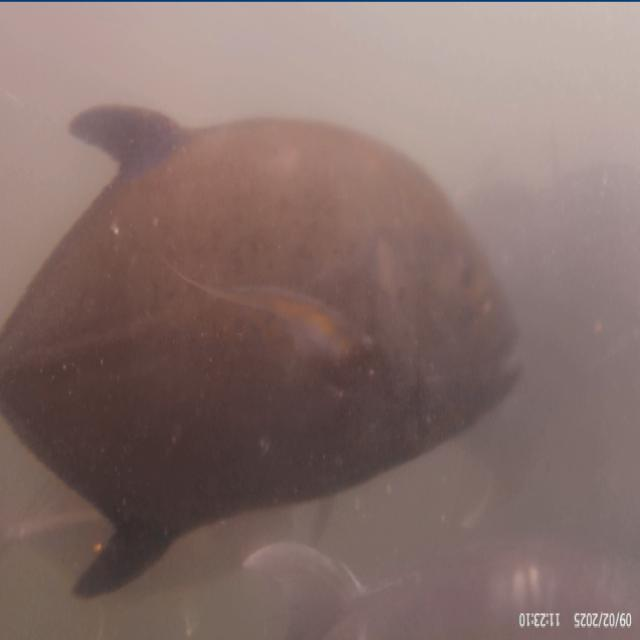ikan: (0, 99, 523, 597)
